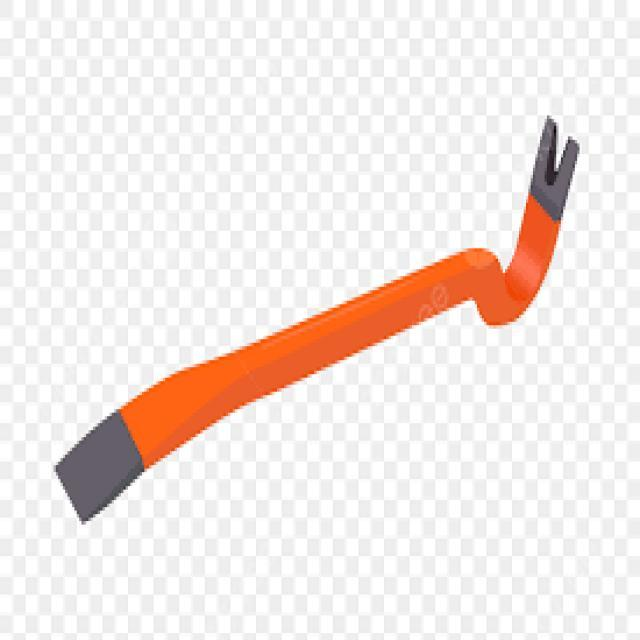Linggis: (42, 103, 582, 552)
